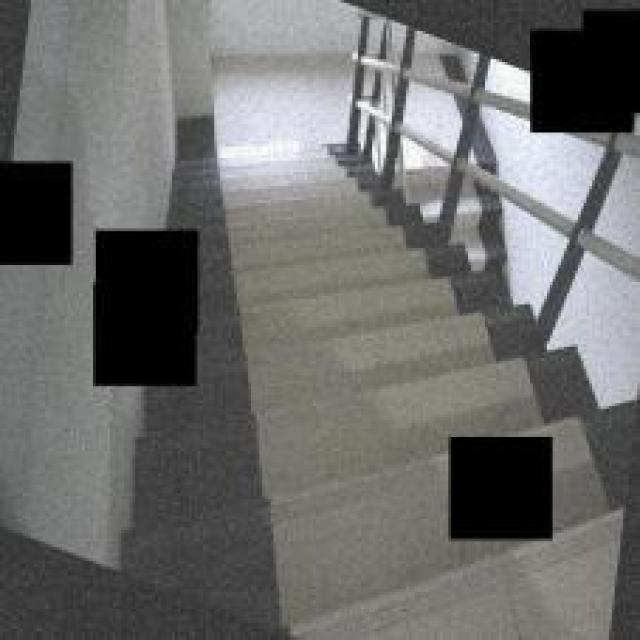downstair: (218, 232, 416, 545)
